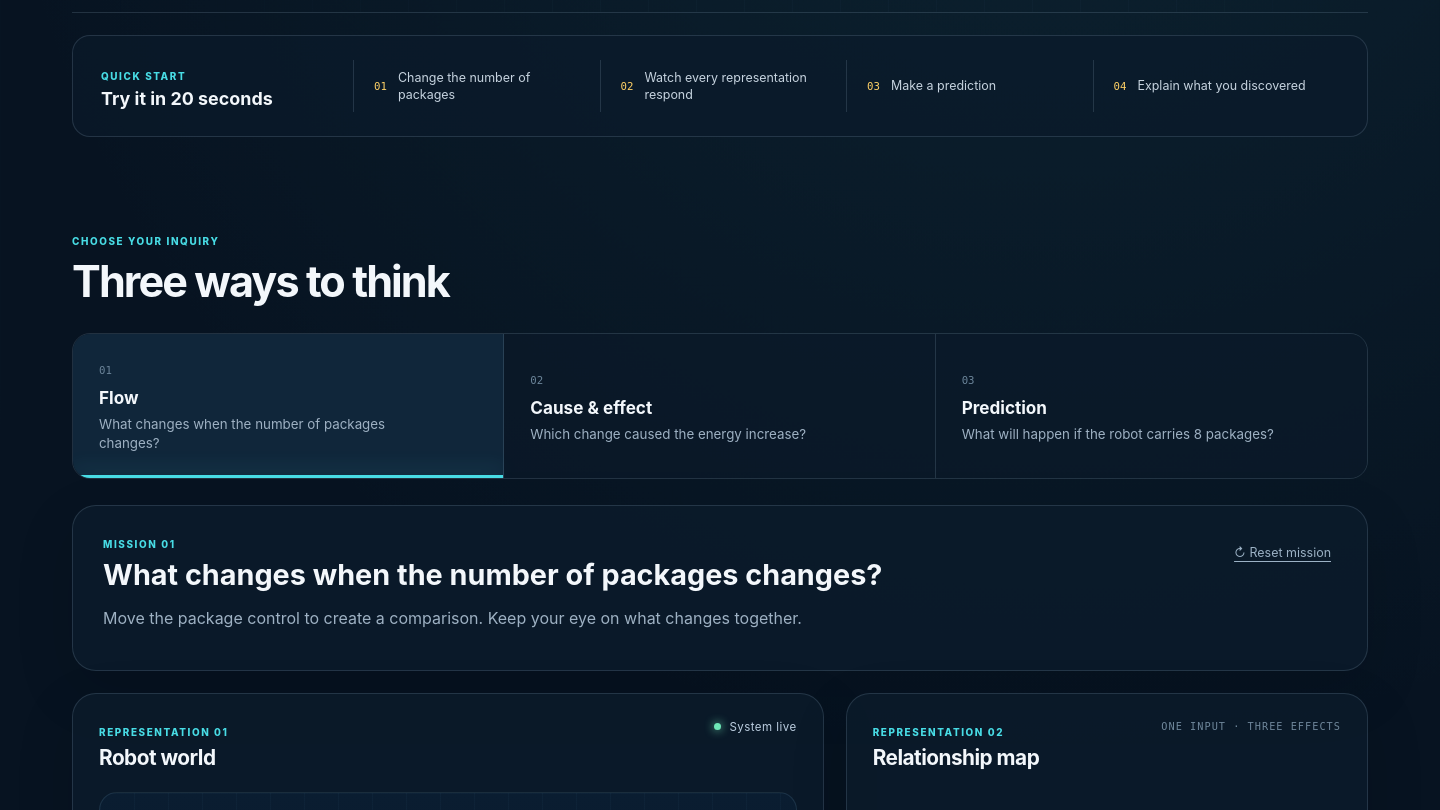
Relationship Lab interactions › does not reveal prediction results before submission
(page scrolled)
Click the tab "Prediction" at (1004, 407), box [936,334,1367,478]
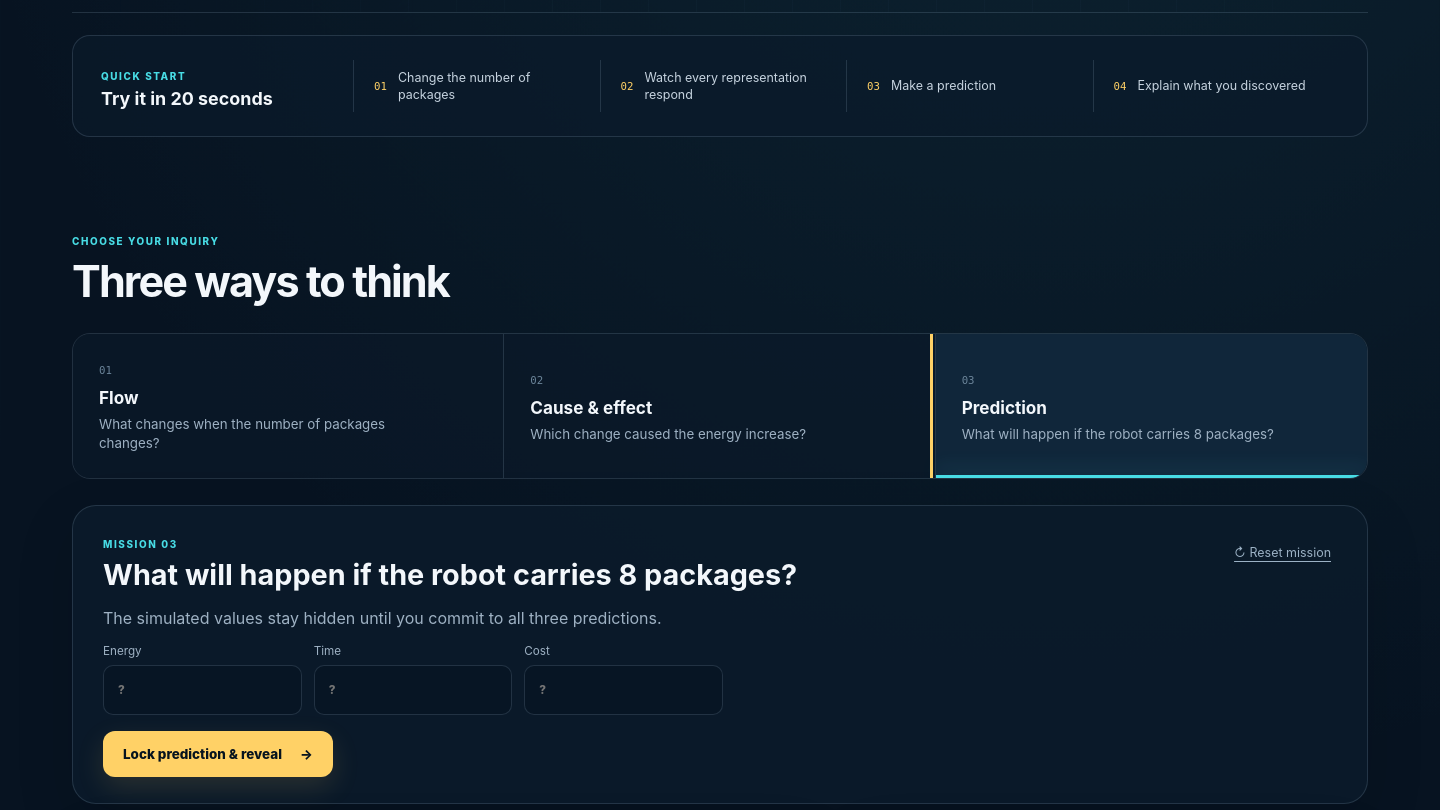
Expected: the number field named "predicted energy" is shown, [103,665,302,715]
